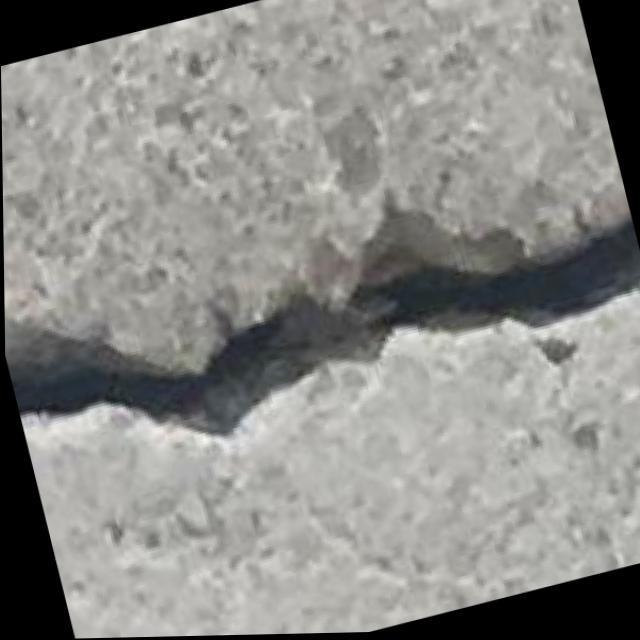Crack: (2, 145, 640, 500)
